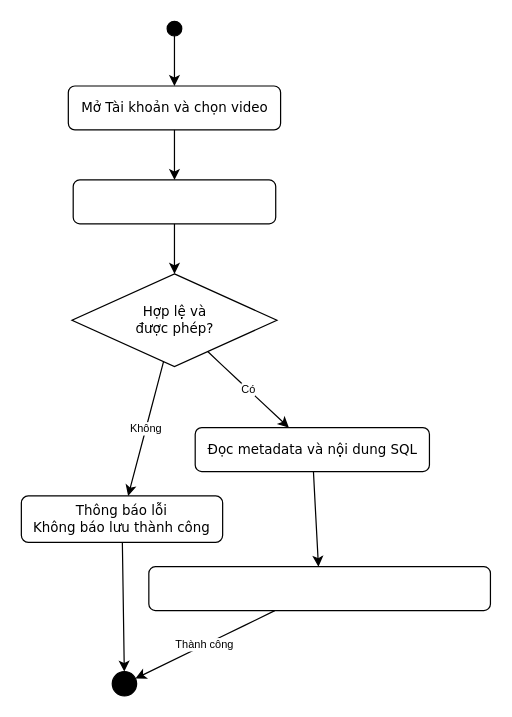
Some shapes in this 512 by 717 pixel diagram are drawn without their labels. Here are the shapes that lost their labels. From the top down, the centre of each, then its label:
point (174, 201): Xác thực chủ sở hữu video
point (319, 588): Web mở tệp và kết quả; Mobile hiện danh sách
